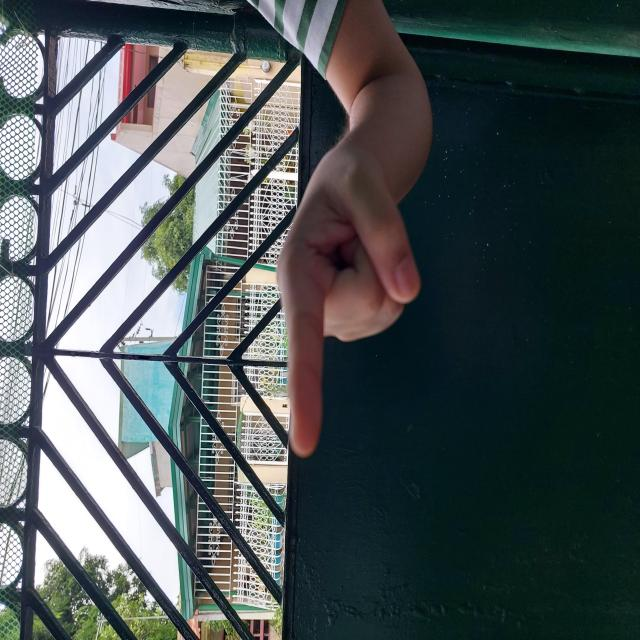Z: (232, 138, 466, 474)
